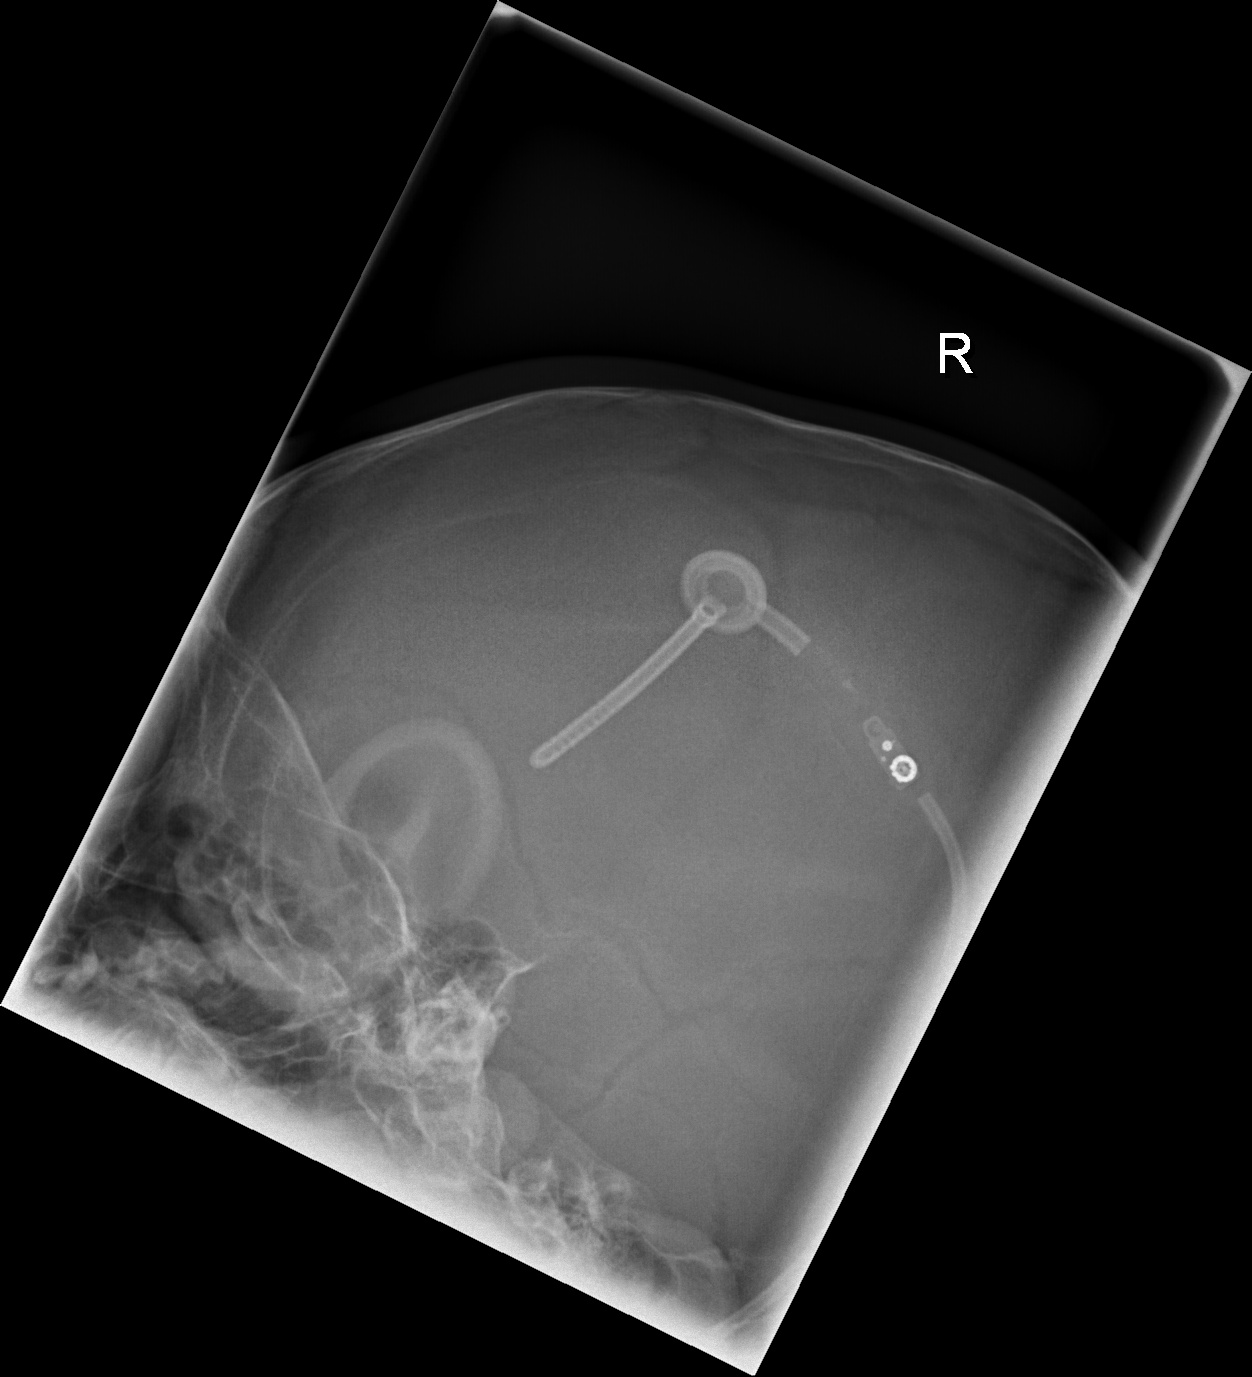Codman Hakim: (867, 730, 925, 796)
